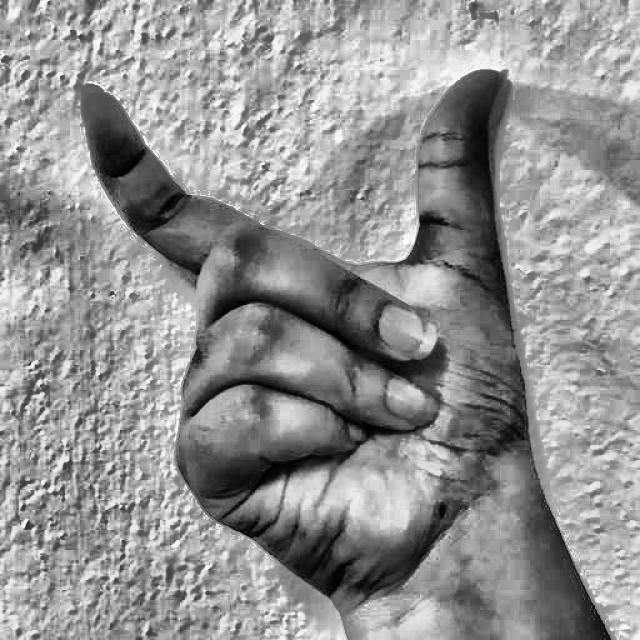ChandraBindu: (54, 18, 565, 616)
